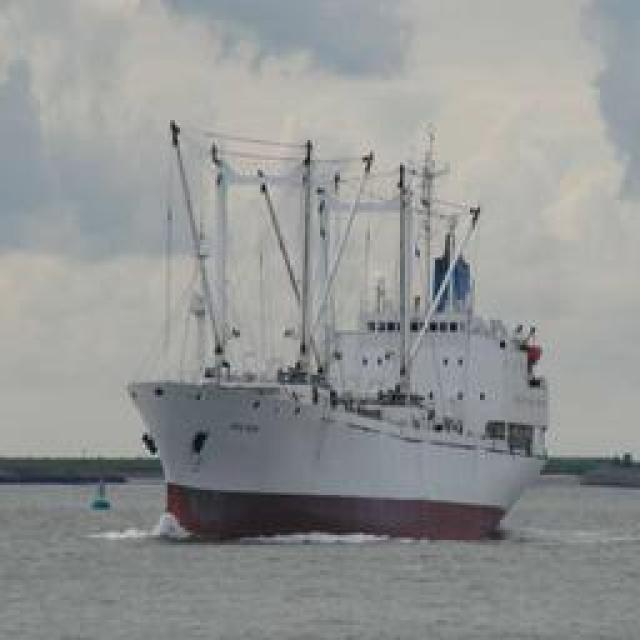CIV_Ship: (131, 95, 561, 538)
